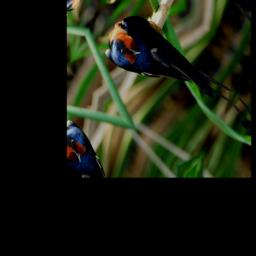Swallow: (98, 0, 235, 146)
